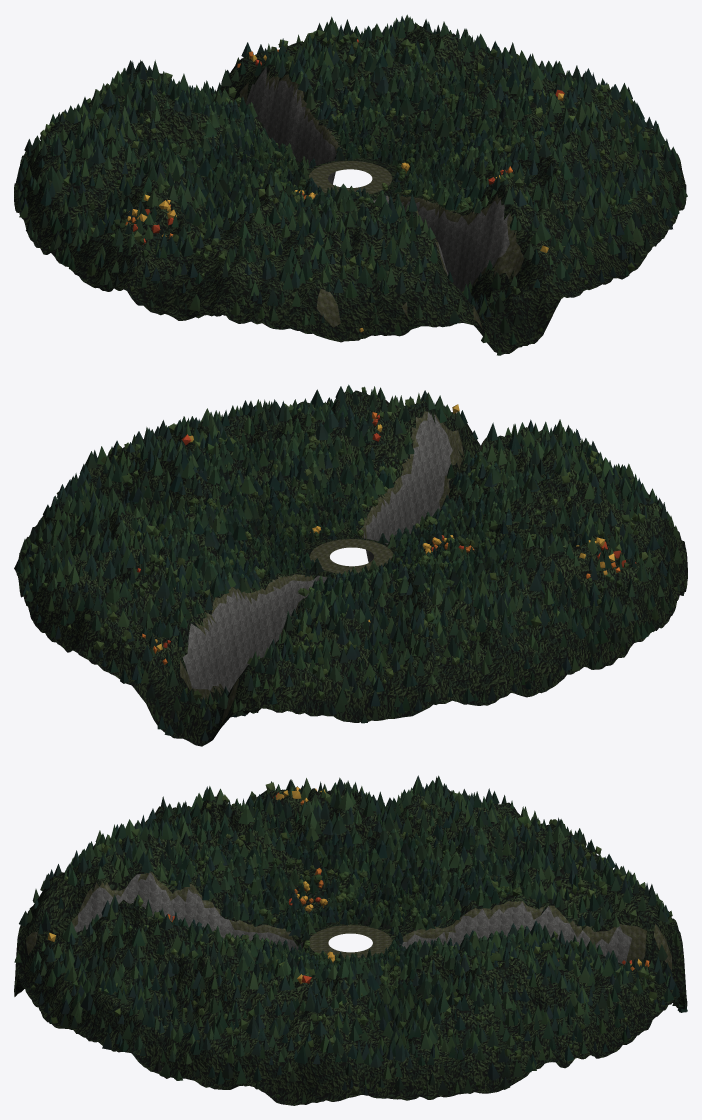
Rendered from backdrop_near_c36_summer.glb.
3 views of the same model, one above another, from view 1: azimuth 30°, elevation 25°; view 2: azimuth 150°, elevation 25°; view 3: azimuth 270°, elevation 25° (orthographic).
Visible parts, largest first — view 1: near_land_S, trees_land_W_0, trees_land_S_0, trees_land_E_0, near_land_W, trees_land_N_0, near_land_E, near_land_N; view 2: near_land_N, trees_land_N_0, trees_land_W_0, trees_land_E_0, near_land_W, trees_land_S_0, near_land_S, near_land_E; view 3: trees_land_E_0, near_land_E, trees_land_W_0, trees_land_N_0, near_land_S, trees_land_S_0, near_land_N, near_land_W.
Part boxes in pixels (x1,y1,x2,y2): near_land_S: (262,135,674,354); trees_land_W_0: (15,94,337,318); trees_land_S_0: (267,129,672,355); trees_land_E_0: (361,21,687,218); near_land_W: (14,108,326,324); trees_land_N_0: (24,14,430,171); near_land_E: (358,24,686,223); near_land_N: (25,30,413,184); near_land_N: (28,529,438,746); trees_land_N_0: (35,517,439,741); trees_land_W_0: (364,466,682,703); trees_land_E_0: (14,399,340,601); near_land_W: (393,474,687,705); trees_land_S_0: (270,384,670,549); near_land_S: (288,390,650,562); near_land_E: (16,404,350,606); trees_land_E_0: (118,933,587,1102); near_land_E: (113,937,588,1105); trees_land_W_0: (136,775,572,929); trees_land_N_0: (385,819,687,1052); near_land_S: (14,823,321,1051); trees_land_S_0: (14,814,316,1049); near_land_N: (378,832,687,1058); near_land_W: (145,788,556,931).
Bounding box in the file's own units: 579 × 175 × 577.
Materials: 4 (3 with a texture image).
